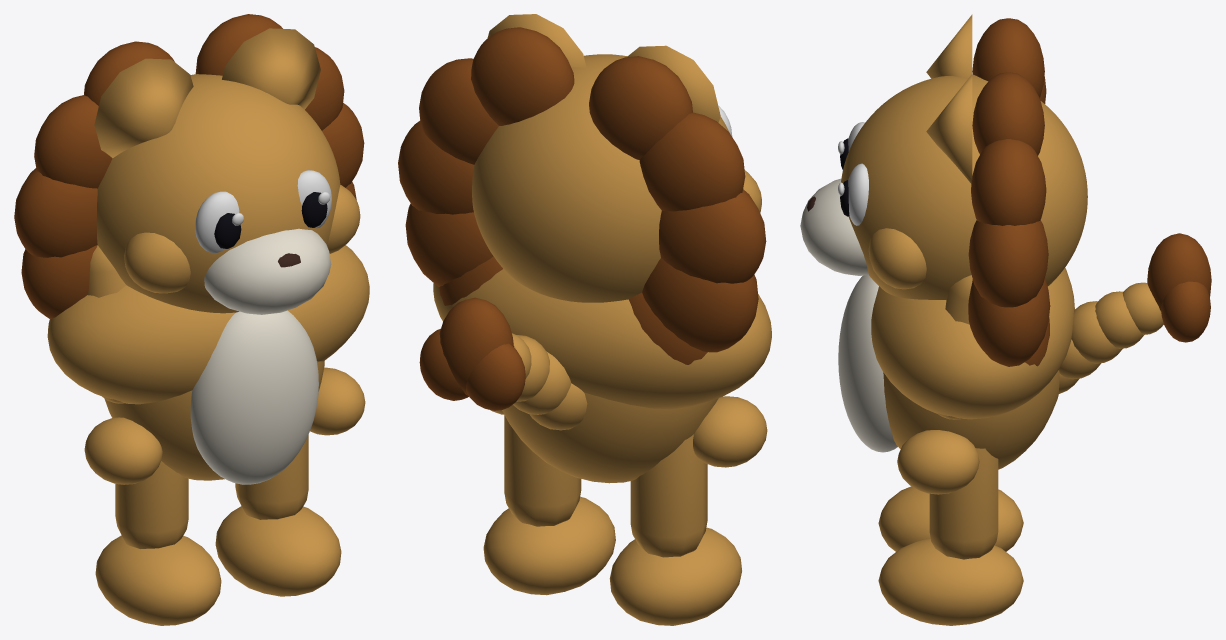
File: lion.glb
3 views of the same model, side by side, from view 1: azimuth 30°, elevation 25°; view 2: azimuth 150°, elevation 25°; view 3: azimuth 270°, elevation 25° (orthographic). The views are drawn at different scales.
Parts seen in each view (by area): view 1: lion; view 2: lion; view 3: lion.
Part boxes in pixels (box(x1,y1,x2,y2)): lion: box(14, 14, 369, 625); lion: box(398, 14, 771, 625); lion: box(800, 14, 1211, 625).
Bounding box in the file's own units: 0.7503 × 1.15 × 0.7925.
